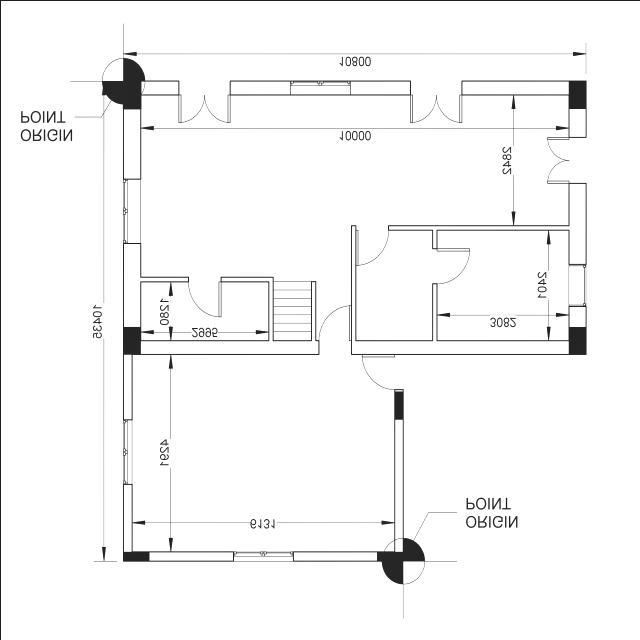Column: (122, 80, 144, 112), (122, 326, 140, 358), (568, 80, 586, 109), (122, 549, 150, 563), (393, 390, 405, 420), (374, 550, 402, 562)
Door: (434, 240, 474, 290), (180, 274, 222, 318), (359, 352, 405, 391), (317, 302, 351, 353), (356, 227, 390, 269)
Double-Door: (406, 77, 466, 125), (175, 77, 233, 126), (544, 133, 588, 186)
Staircase: (267, 272, 321, 349)
Window: (229, 543, 296, 565), (120, 176, 140, 243), (118, 416, 136, 490), (563, 258, 587, 308), (286, 80, 352, 94), (568, 325, 586, 355)
